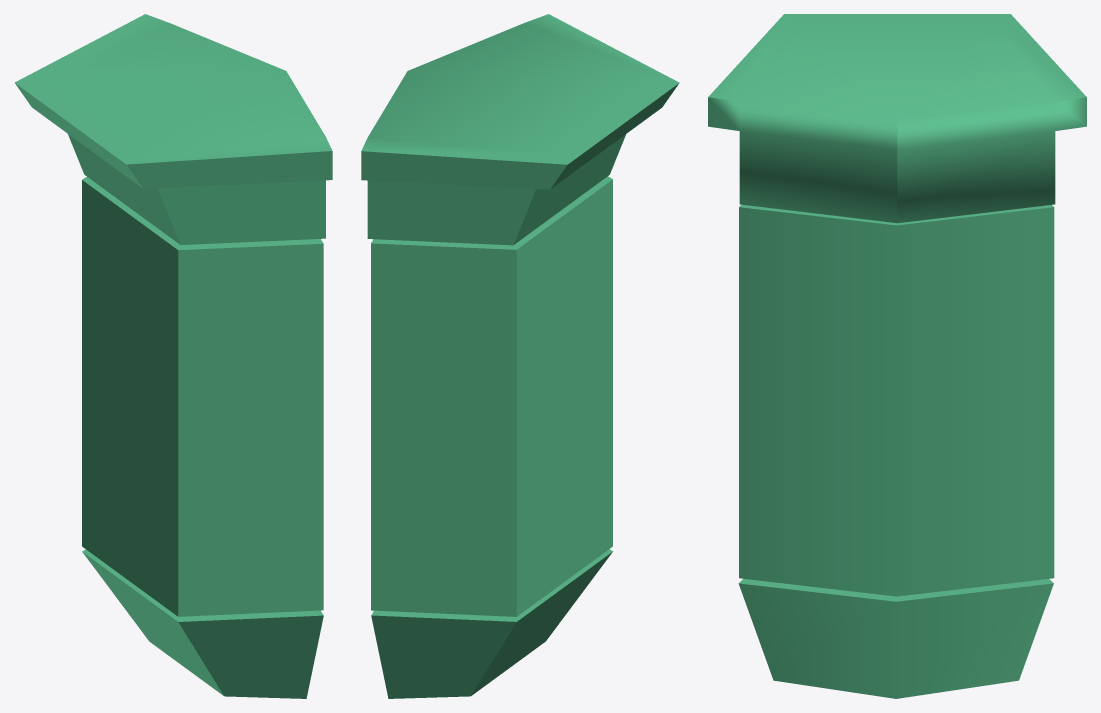
Rendered from Statues_Basement_01_Lod0.fbx.
The picture shows the model from 3 angles, left to right: view 1: azimuth 30°, elevation 25°; view 2: azimuth 150°, elevation 25°; view 3: azimuth 270°, elevation 25°; orthographic projection.
Parts seen in each view (by area): view 1: Statues_Basement_01_Lod0; view 2: Statues_Basement_01_Lod0; view 3: Statues_Basement_01_Lod0.
Boxes of the visible parts, x1,y1,x2,y2 form: Statues_Basement_01_Lod0: (14,14,332,698); Statues_Basement_01_Lod0: (361,14,679,698); Statues_Basement_01_Lod0: (708,14,1086,698).
Bounding box in the file's own units: 82.74 × 210 × 124.
